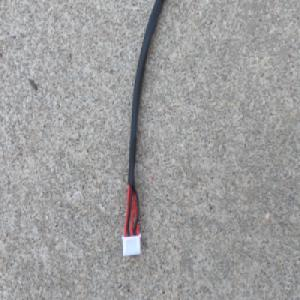Wire: (119, 0, 164, 262)
